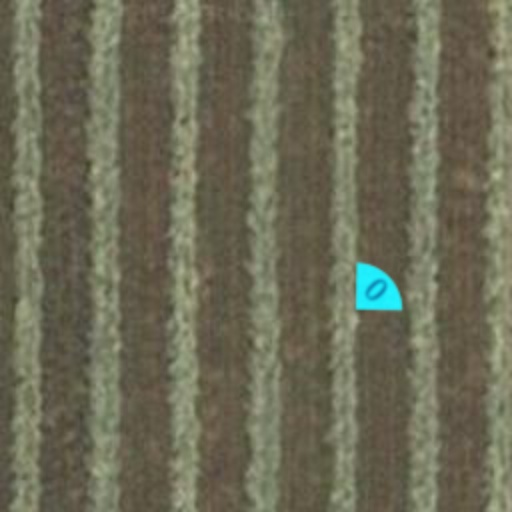quarter_circle: (330, 244, 422, 336)
